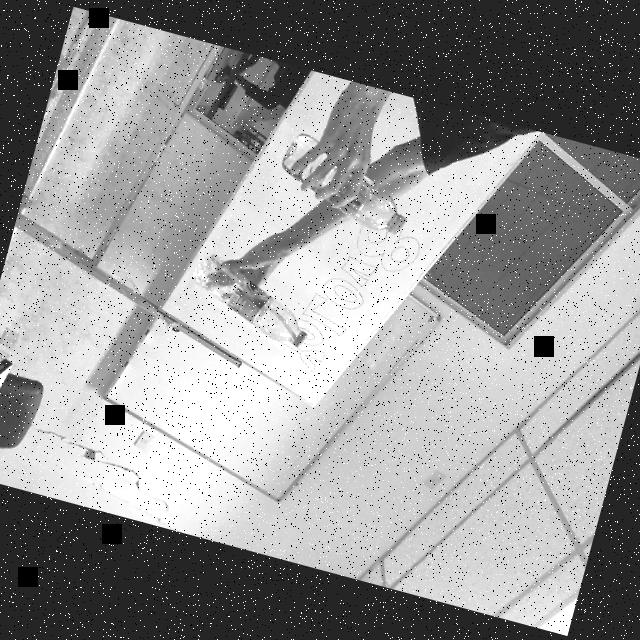plastic_bottle: (272, 128, 424, 238), (176, 246, 323, 350)
plastic_bottle_cap: (192, 254, 312, 340), (382, 208, 408, 239), (291, 328, 311, 352)
